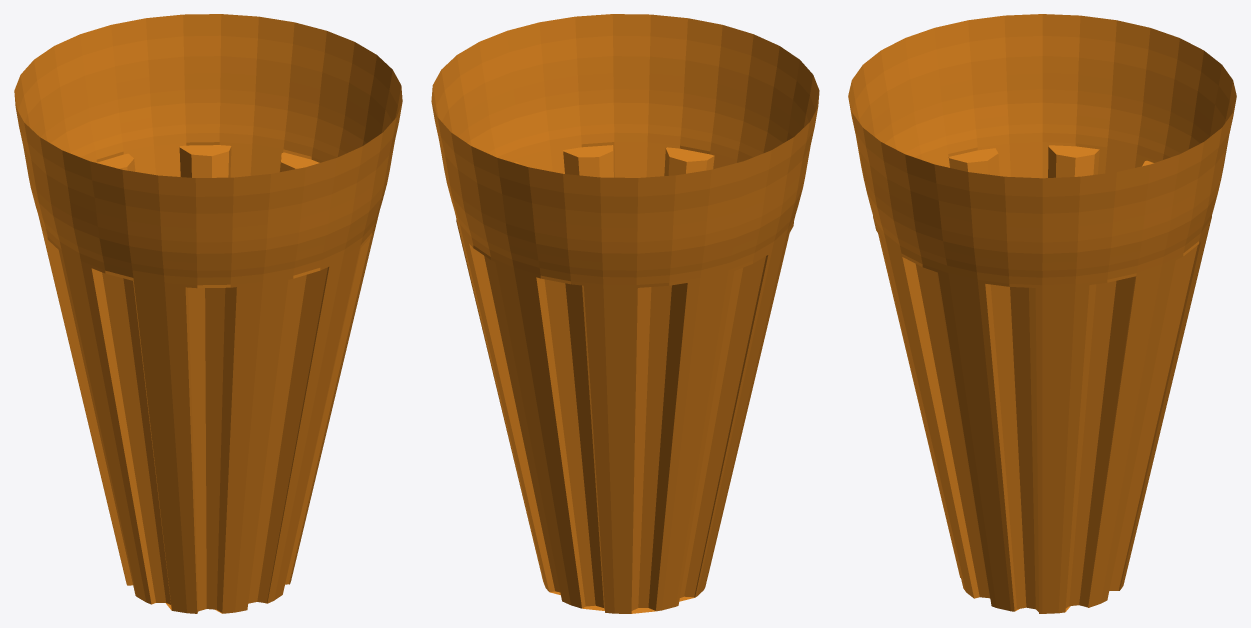
The model's file is WireCap.fbx.
3 views of the same model, side by side, from view 1: azimuth 30°, elevation 25°; view 2: azimuth 150°, elevation 25°; view 3: azimuth 270°, elevation 25° (orthographic).
Visible parts, largest first — view 1: Cylinder; view 2: Cylinder; view 3: Cylinder.
Part boxes in pixels (x1,y1,x2,y2): Cylinder: [14, 14, 402, 613]; Cylinder: [431, 14, 819, 613]; Cylinder: [848, 14, 1236, 613].
Size of the model in its own units: 1.43 by 1.96 by 1.43.
